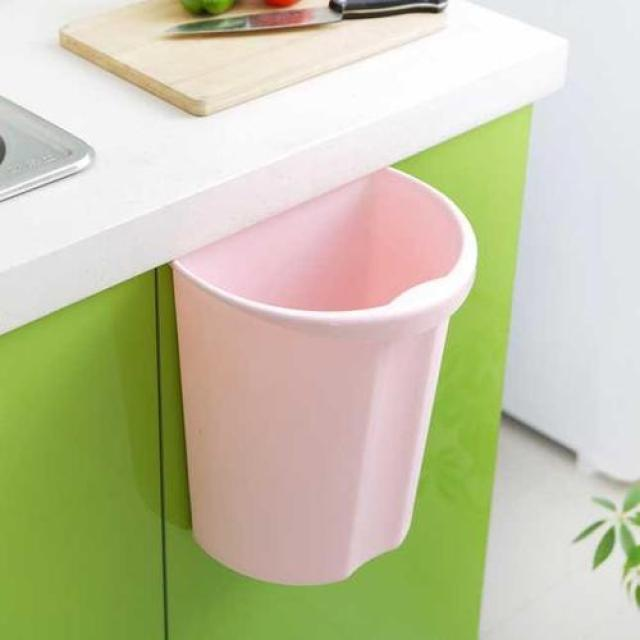dustbin: (162, 163, 481, 591)
